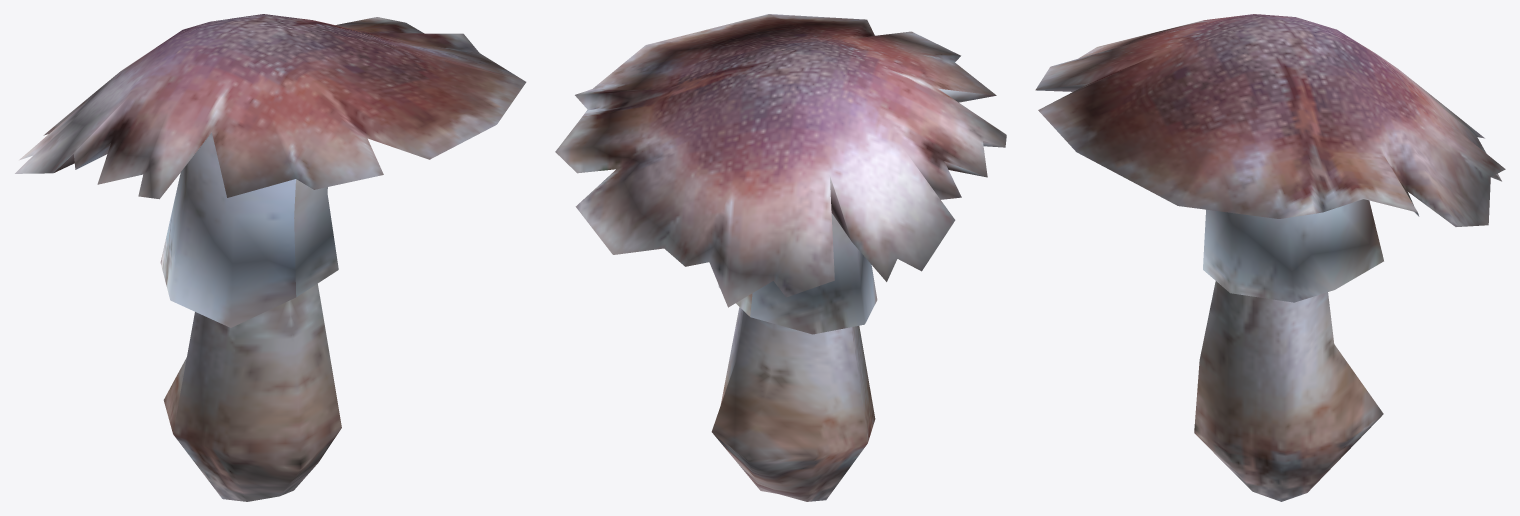
Rendered from SM_TOADSTOOL_07.FBX.
3 renders of one model, left to right at view 1: azimuth 30°, elevation 25°; view 2: azimuth 150°, elevation 25°; view 3: azimuth 270°, elevation 25°, orthographic. The views are drawn at different scales.
Visible parts, largest first — view 1: SM_TOADSTOOL_07; view 2: SM_TOADSTOOL_07; view 3: SM_TOADSTOOL_07.
Part boxes in pixels (<box>): SM_TOADSTOOL_07: <box>15,14,526,501</box>; SM_TOADSTOOL_07: <box>555,14,1006,501</box>; SM_TOADSTOOL_07: <box>1035,14,1505,501</box>.
Size of the model in its own units: 15.16 by 15.41 by 16.35.
